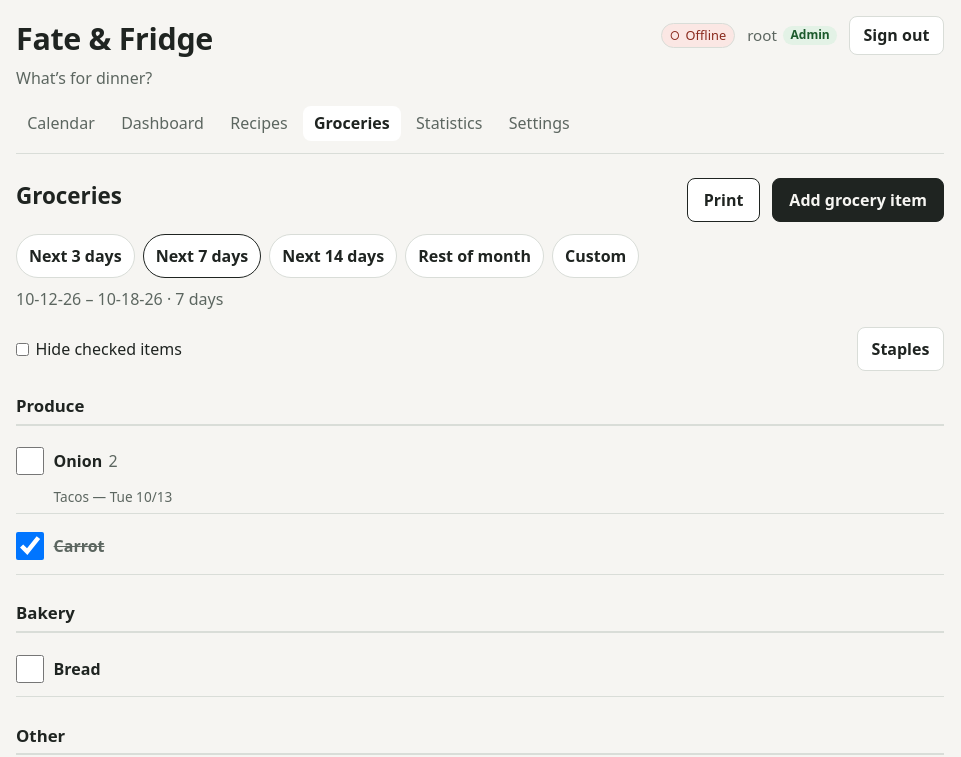
Test case: groceries page › toggles hide-checked and persists it via preferences
The image size is (961, 757).
Expected: the text "Carrot" is shown, [54,534,104,558]
Click the checkbox labelled "Hide checked items" at (22, 349), box [16,343,29,356]
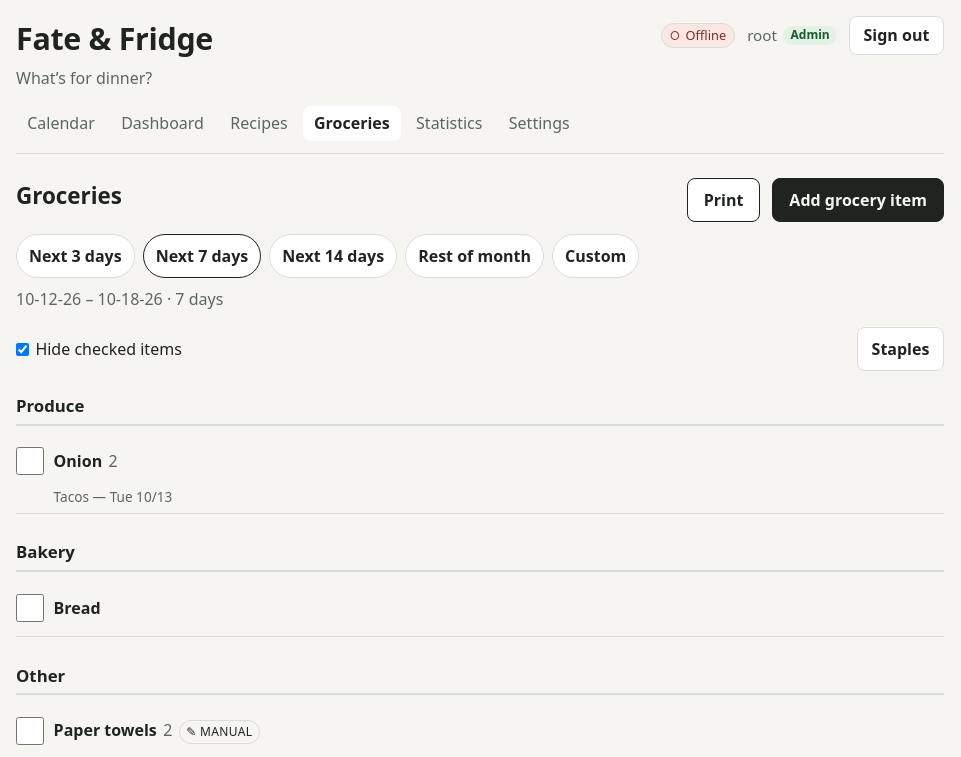
Expected: the text "Carrot" is gone
